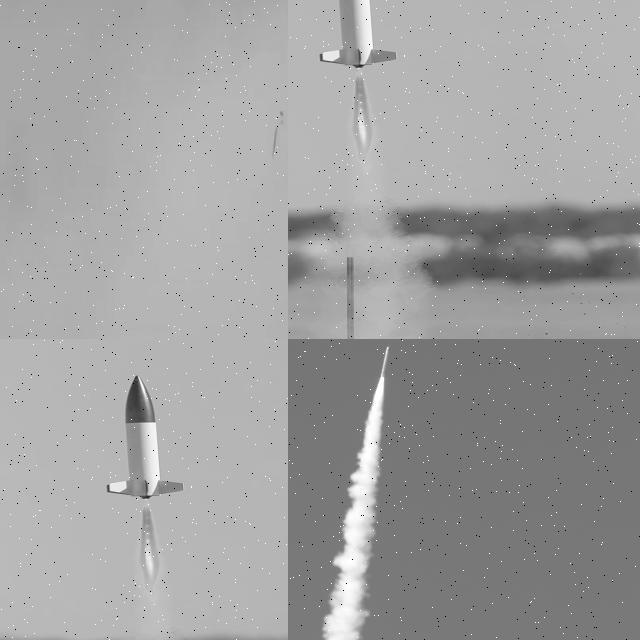Rocket: (105, 374, 186, 501), (317, 0, 399, 70), (378, 346, 390, 378)
